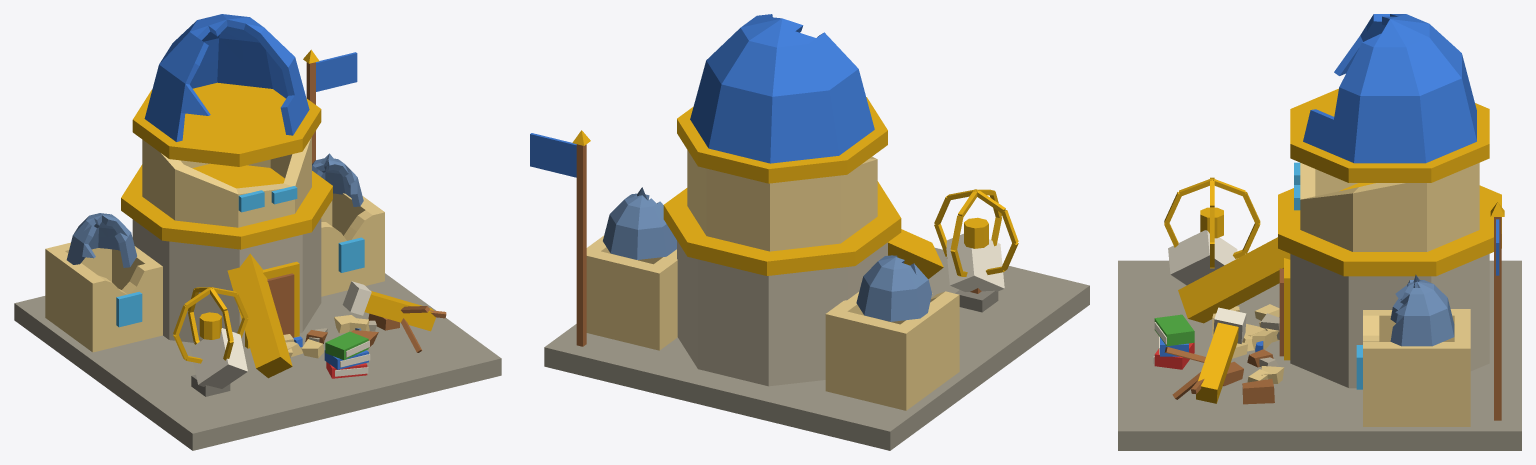
The model's file is observatory_t3_v1_dmg1.glb.
3 views of the same model, side by side, from view 1: azimuth 30°, elevation 25°; view 2: azimuth 150°, elevation 25°; view 3: azimuth 270°, elevation 25° (orthographic). The views are drawn at different scales.
Visible parts, largest first — view 1: observatory_t3_v1_dmg1; view 2: observatory_t3_v1_dmg1; view 3: observatory_t3_v1_dmg1.
Boxes of the visible parts, x1,y1,x2,y2 form: observatory_t3_v1_dmg1: (14,14,501,450); observatory_t3_v1_dmg1: (530,14,1089,450); observatory_t3_v1_dmg1: (1118,14,1521,450).
Bounding box in the file's own units: 0.805 × 0.71 × 0.75.
Materials: 1 (1 with a texture image).
